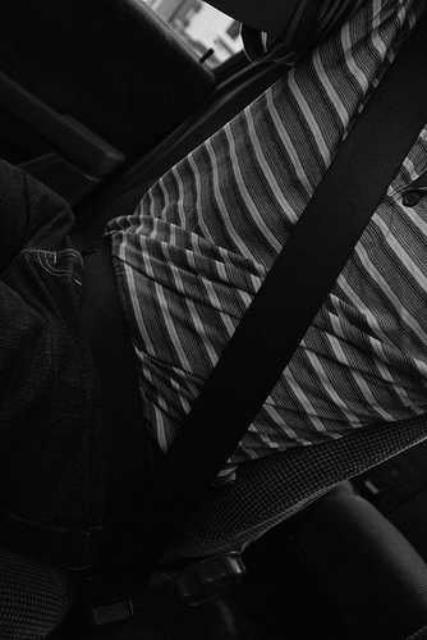Seatbelt: (157, 1, 427, 476)
